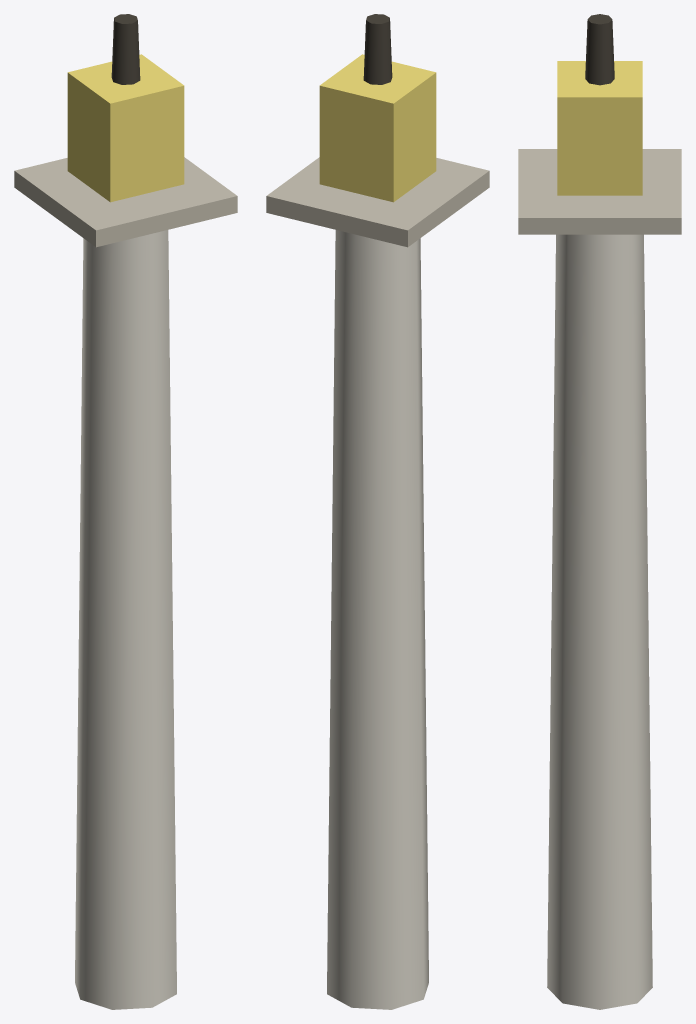
Rendered from harbour-light.glb.
3 renders of one model, left to right at view 1: azimuth 30°, elevation 25°; view 2: azimuth 150°, elevation 25°; view 3: azimuth 270°, elevation 25°, orthographic.
Visible parts, largest first — view 1: harbour-light; view 2: harbour-light; view 3: harbour-light.
Boxes of the visible parts, x1=… form: harbour-light: x1=14, y1=14, x2=237, y2=1009; harbour-light: x1=266, y1=14, x2=489, y2=1009; harbour-light: x1=518, y1=14, x2=681, y2=1009.
Size of the model in its own units: 1.05 by 6.87 by 1.05.
